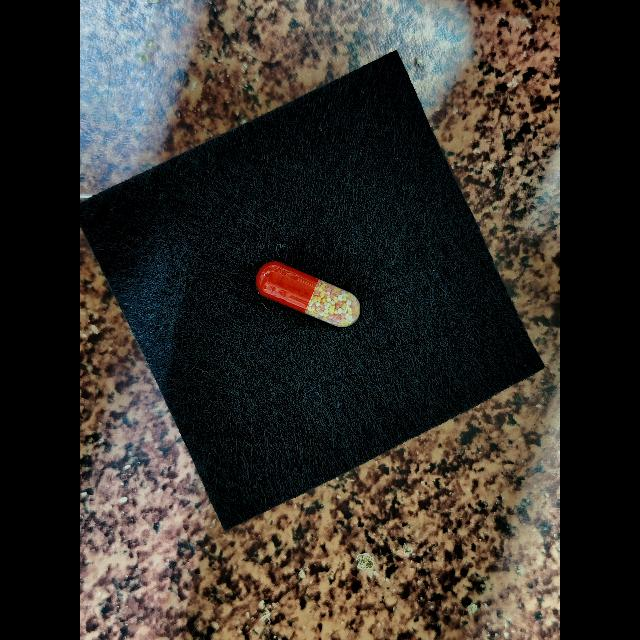Intact Capsule: (256, 261, 360, 327)
